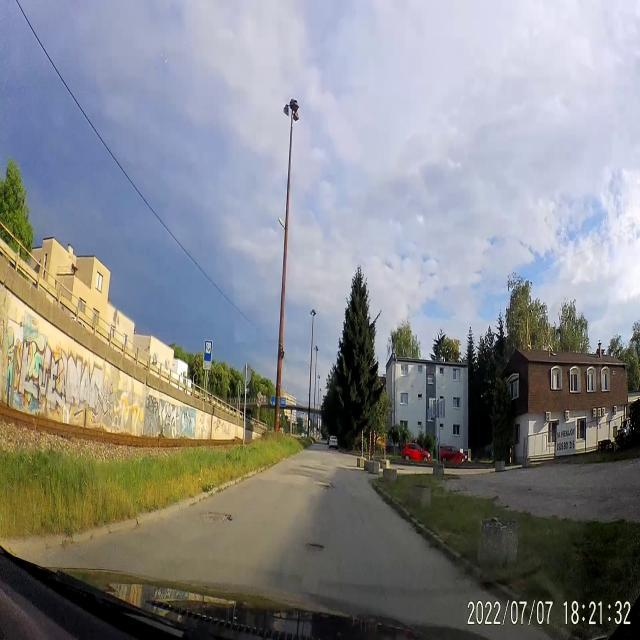Pothole: (198, 511, 236, 529), (300, 537, 324, 553), (318, 482, 337, 494)
